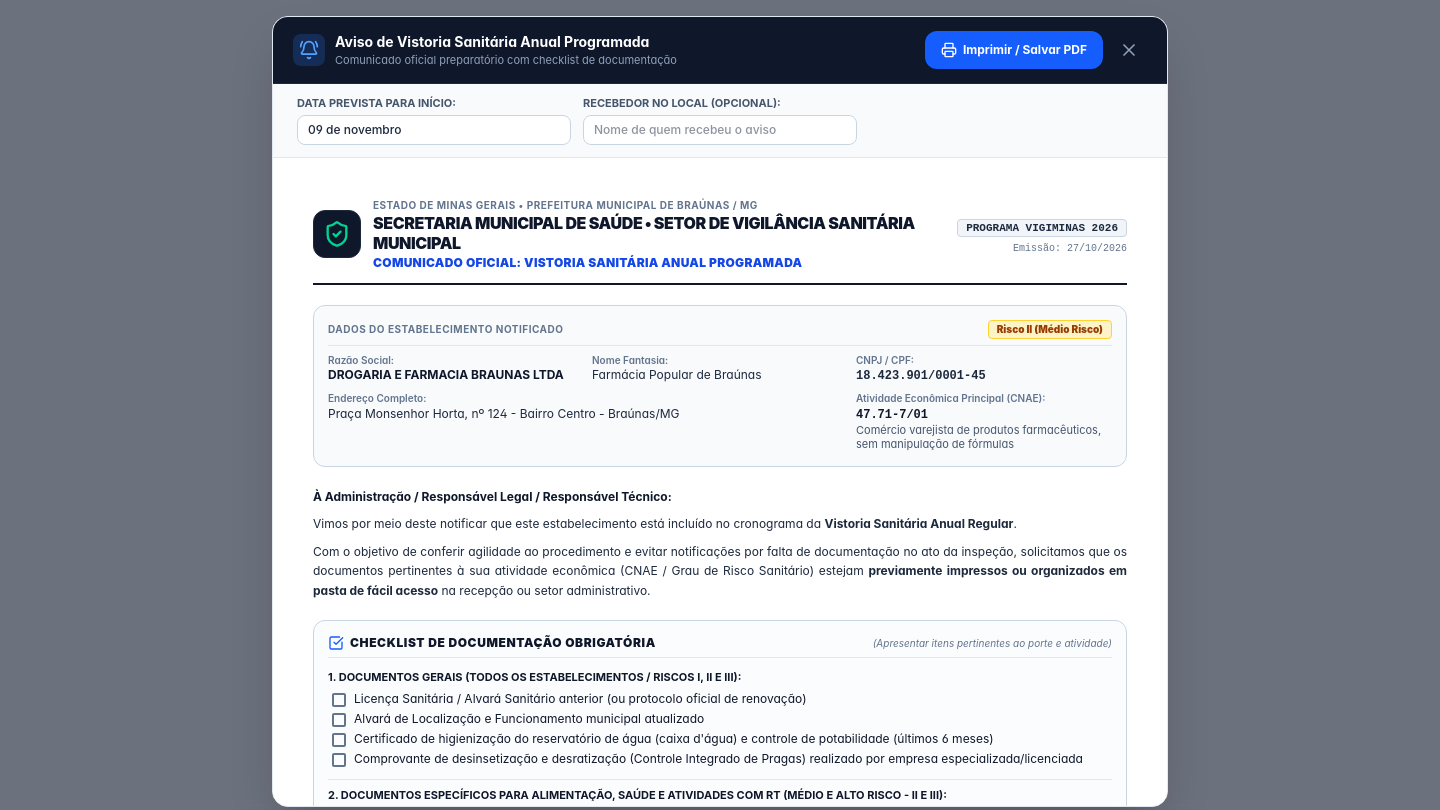
Test: AvisoVistoriaModal (US-09) › permite alterar a data de previsão no input da barra superior
This screenshot has width=1440, height=810.
Step 1. Replace the text in the field with placeholder "Ex: 09 de novembro" with "25 de novembro" → (434, 130), box x1=297 y1=115 x2=571 y2=145
(page scrolled)
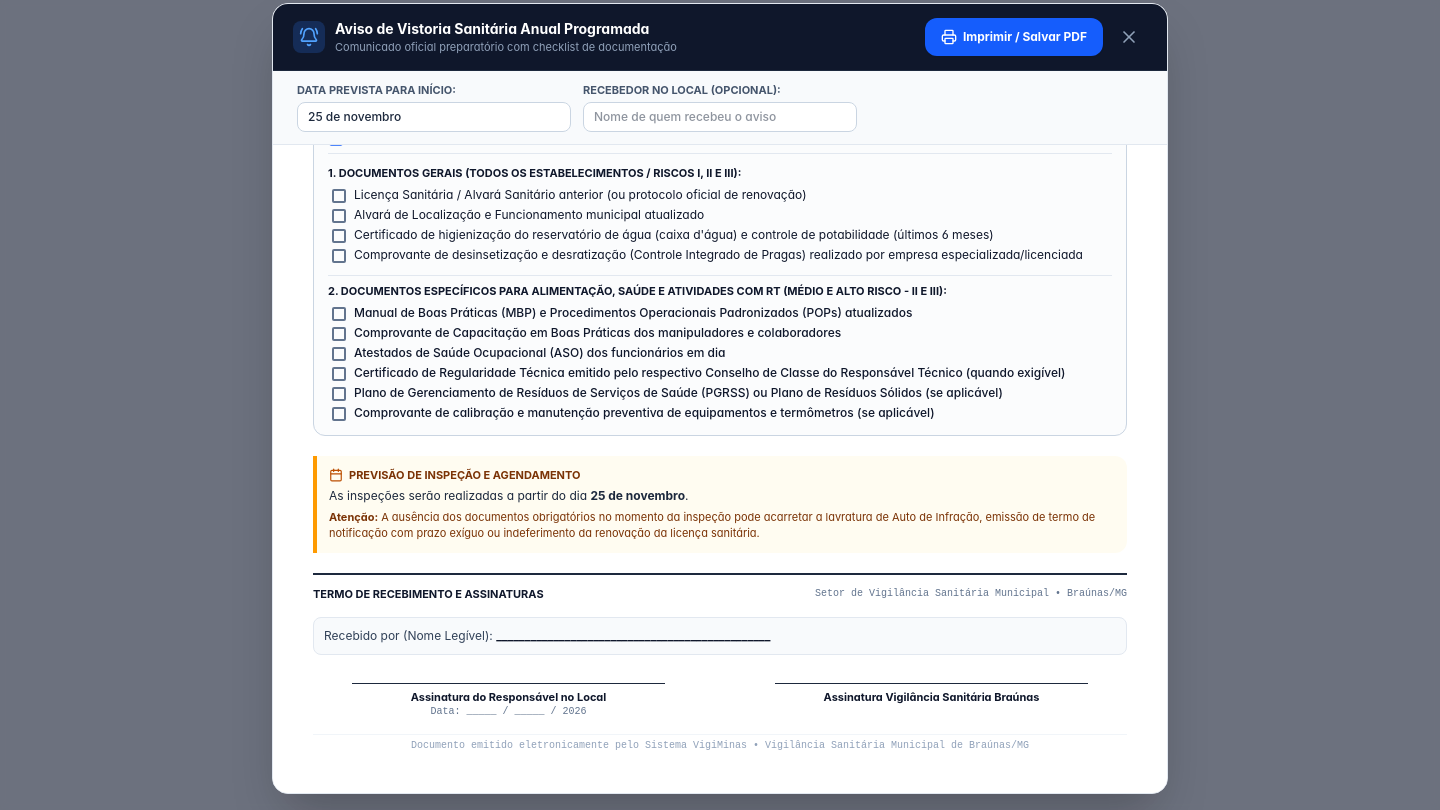
Now the text "As inspeções serão realizadas a partir do dia" is shown, box x1=329 y1=488 x2=590 y2=503
Now the text "25 de novembro" is shown, box x1=590 y1=488 x2=685 y2=503
